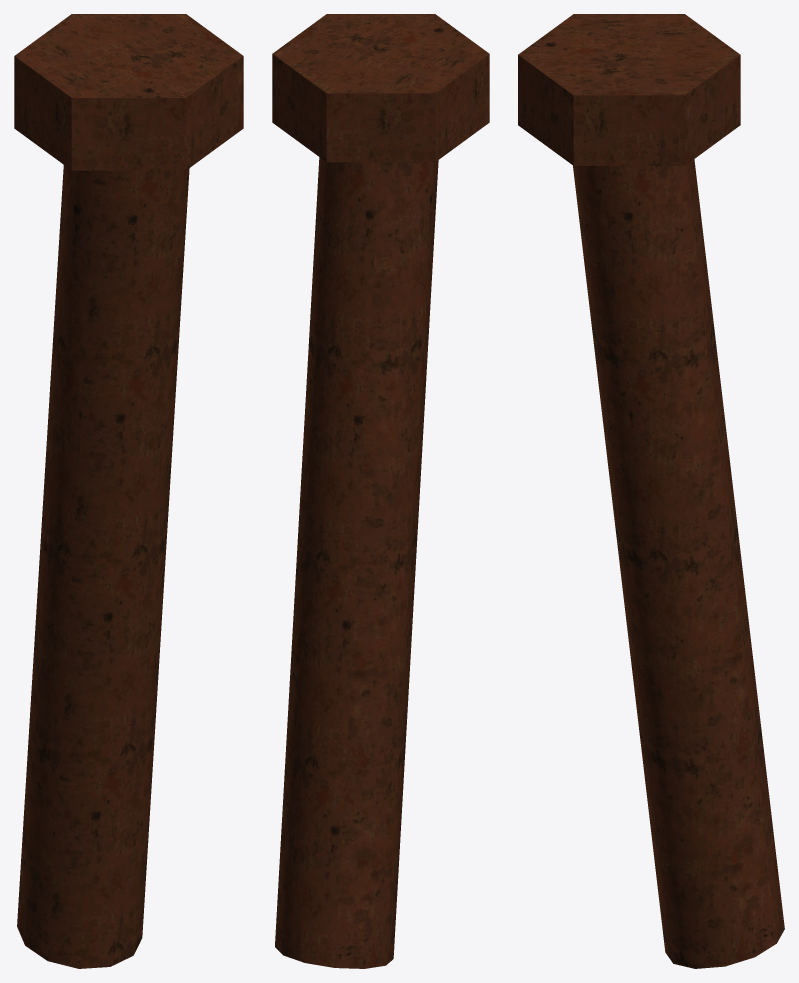
The model's file is bolt_3.glb.
3 views of the same model, side by side, from view 1: azimuth 30°, elevation 25°; view 2: azimuth 150°, elevation 25°; view 3: azimuth 270°, elevation 25° (orthographic). The views are drawn at different scales.
Parts seen in each view (by area): view 1: bolt_3; view 2: bolt_3; view 3: bolt_3.
Boxes of the visible parts, x1=… form: bolt_3: x1=14, y1=14, x2=243, y2=968; bolt_3: x1=272, y1=14, x2=489, y2=968; bolt_3: x1=518, y1=14, x2=784, y2=968.
Bounding box in the file's own units: 0.0381 × 0.1959 × 0.0528.
1 material, 1 textured.
